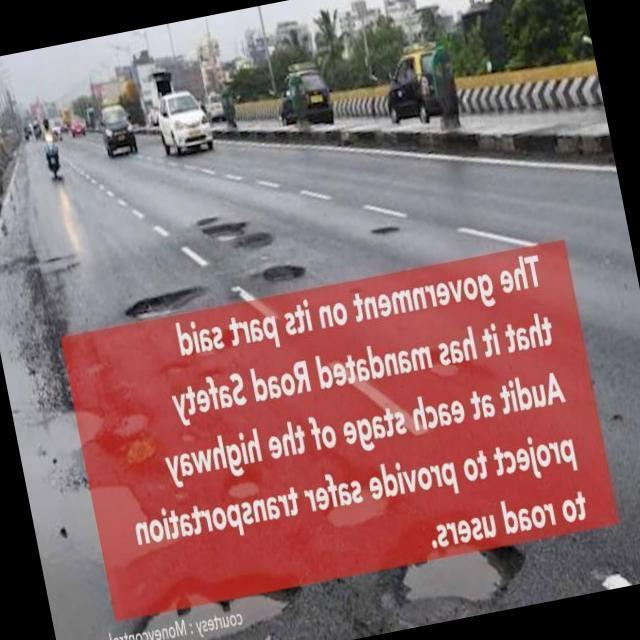Pothole: (389, 518, 520, 606), (47, 487, 177, 568), (141, 579, 300, 640), (33, 410, 103, 455), (126, 284, 196, 316), (326, 488, 386, 523), (228, 466, 271, 500), (262, 262, 305, 284), (238, 227, 272, 253), (202, 220, 240, 243), (117, 407, 149, 433), (367, 223, 402, 239), (192, 212, 224, 228)
